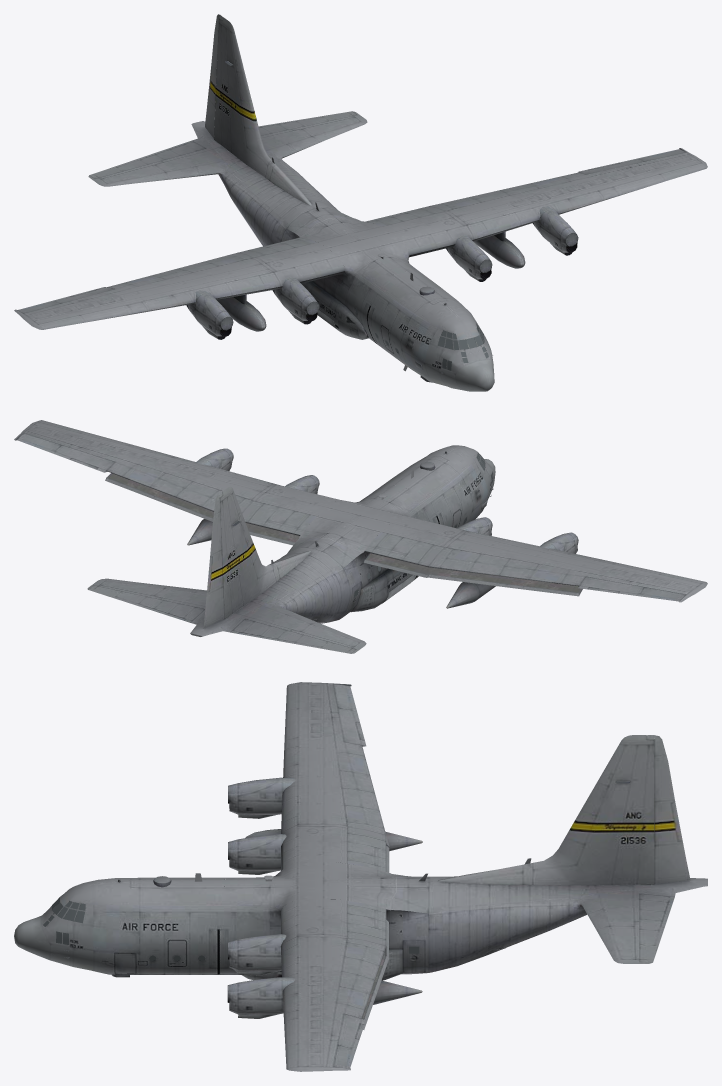
3 renders of one model, top to bottom at view 1: azimuth 30°, elevation 25°; view 2: azimuth 150°, elevation 25°; view 3: azimuth 270°, elevation 25°, orthographic. The views are drawn at different scales.
Visible parts, largest first — view 1: YJJ_CH130; view 2: YJJ_CH130; view 3: YJJ_CH130.
Part boxes in pixels (x1,y1,x2,y2): YJJ_CH130: (14,14,707,391); YJJ_CH130: (14,420,707,653); YJJ_CH130: (14,682,707,1071).
Bounding box in the file's own units: 28.03 × 8.04 × 21.12.
2 materials, 1 textured.
